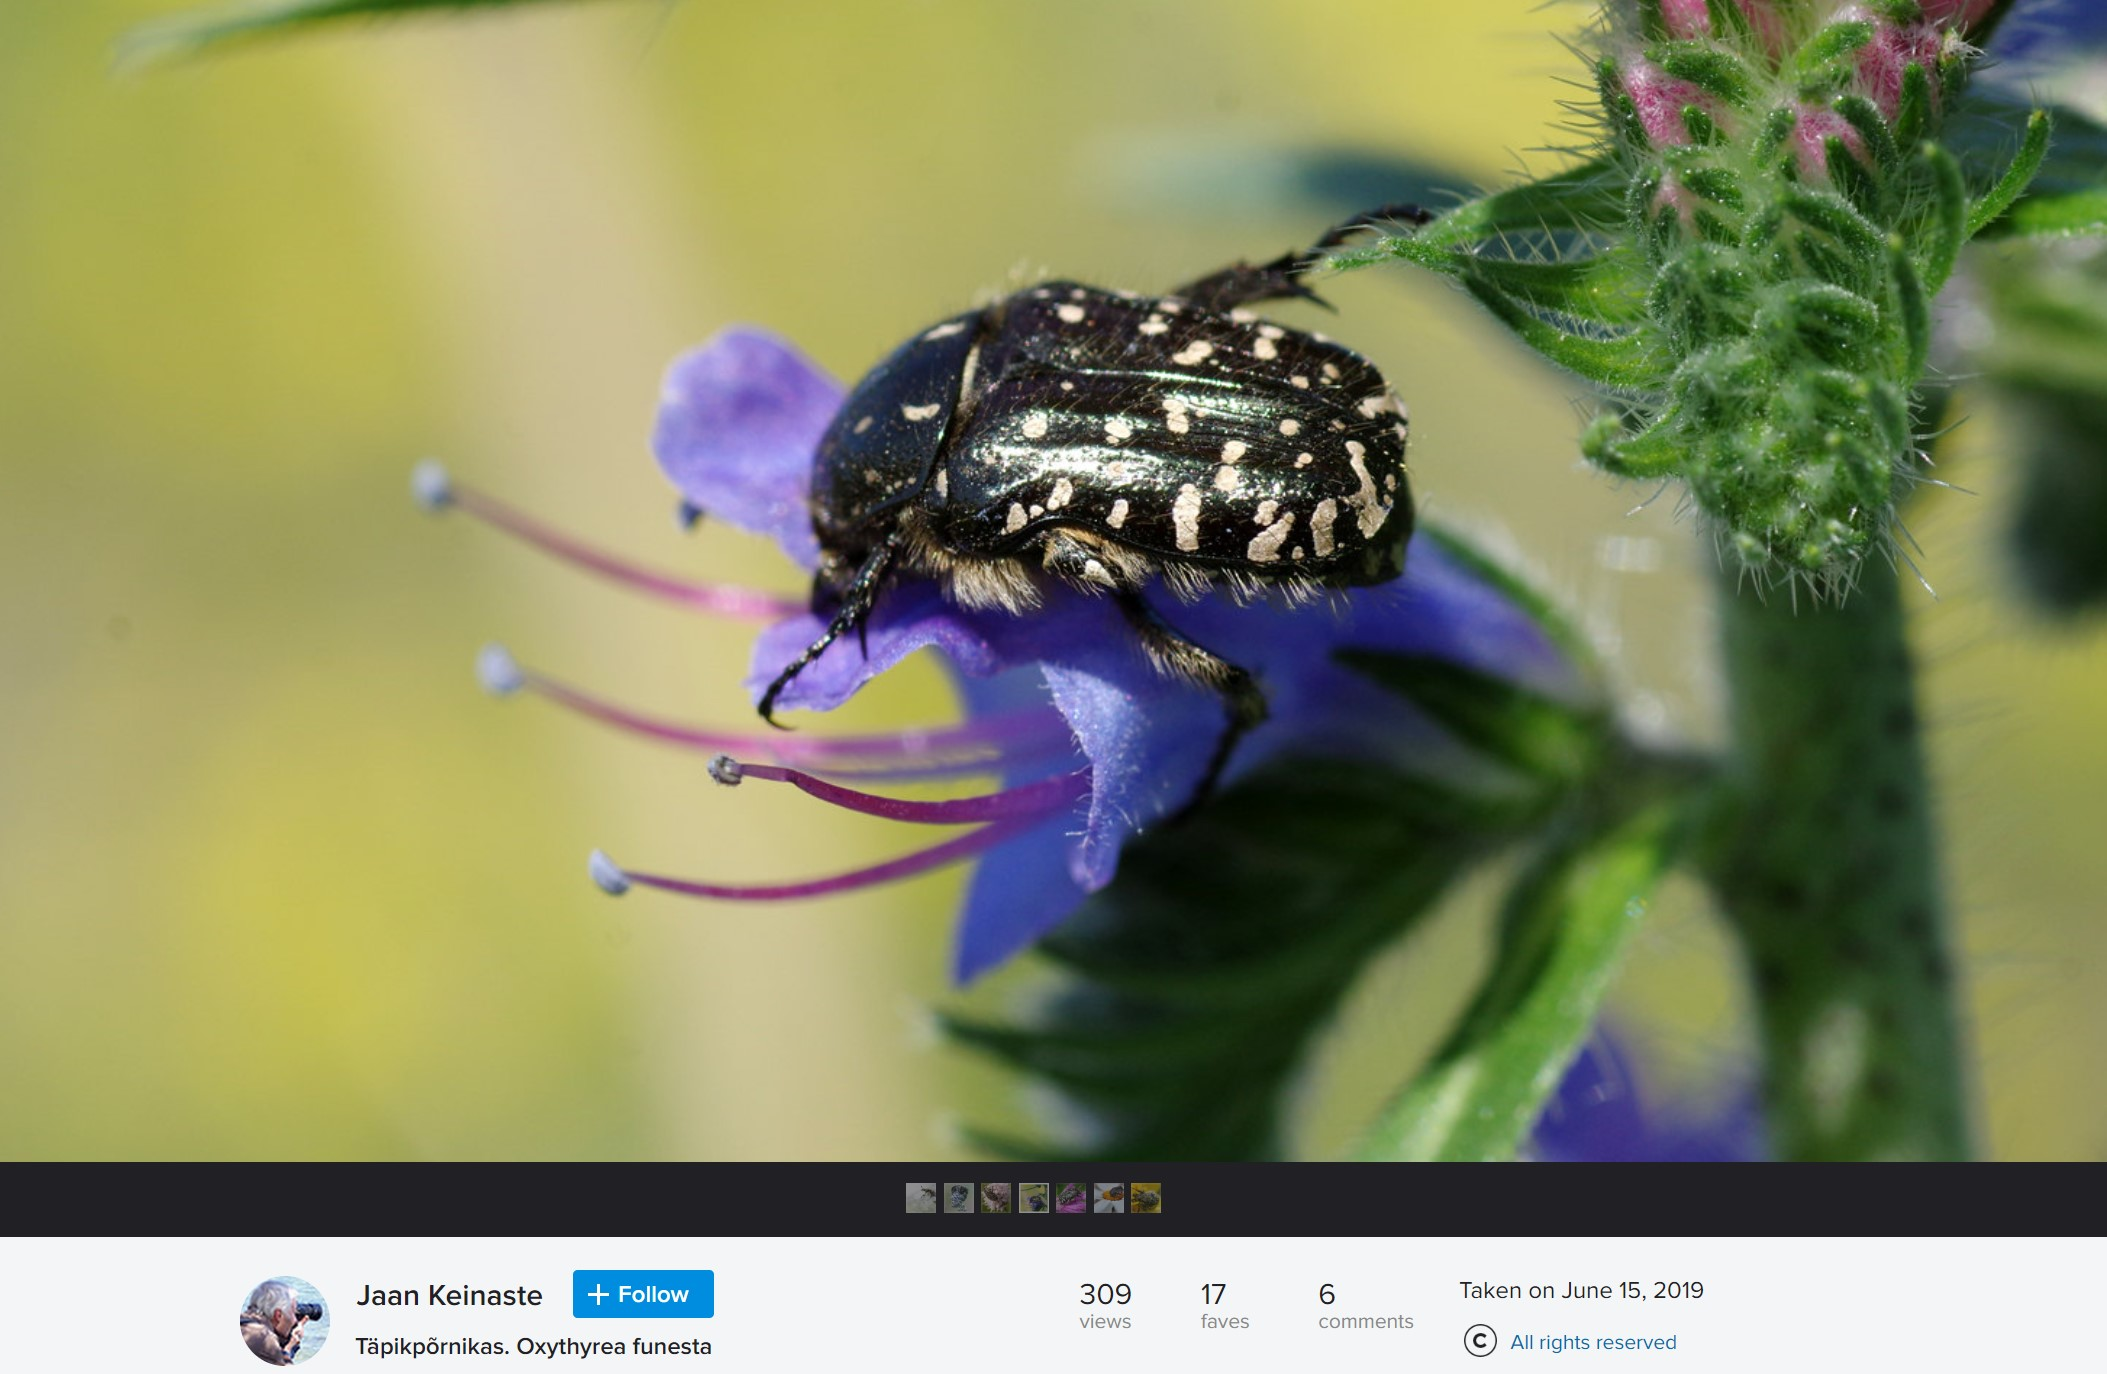Oxythyrea_funesta: (731, 172, 1500, 817)
